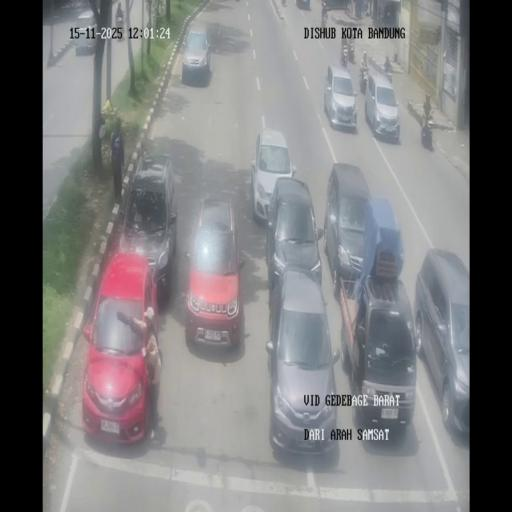car: (81, 253, 160, 443), (266, 269, 338, 458), (341, 272, 418, 439), (414, 252, 469, 440), (120, 155, 179, 300), (250, 127, 296, 226), (365, 66, 400, 142), (323, 62, 357, 131), (182, 25, 214, 85), (74, 9, 95, 54)
truck: (421, 113, 433, 150), (383, 62, 393, 83), (360, 66, 368, 92), (114, 12, 123, 34), (348, 41, 356, 63), (321, 6, 328, 28), (341, 46, 348, 66), (364, 1, 371, 17)
